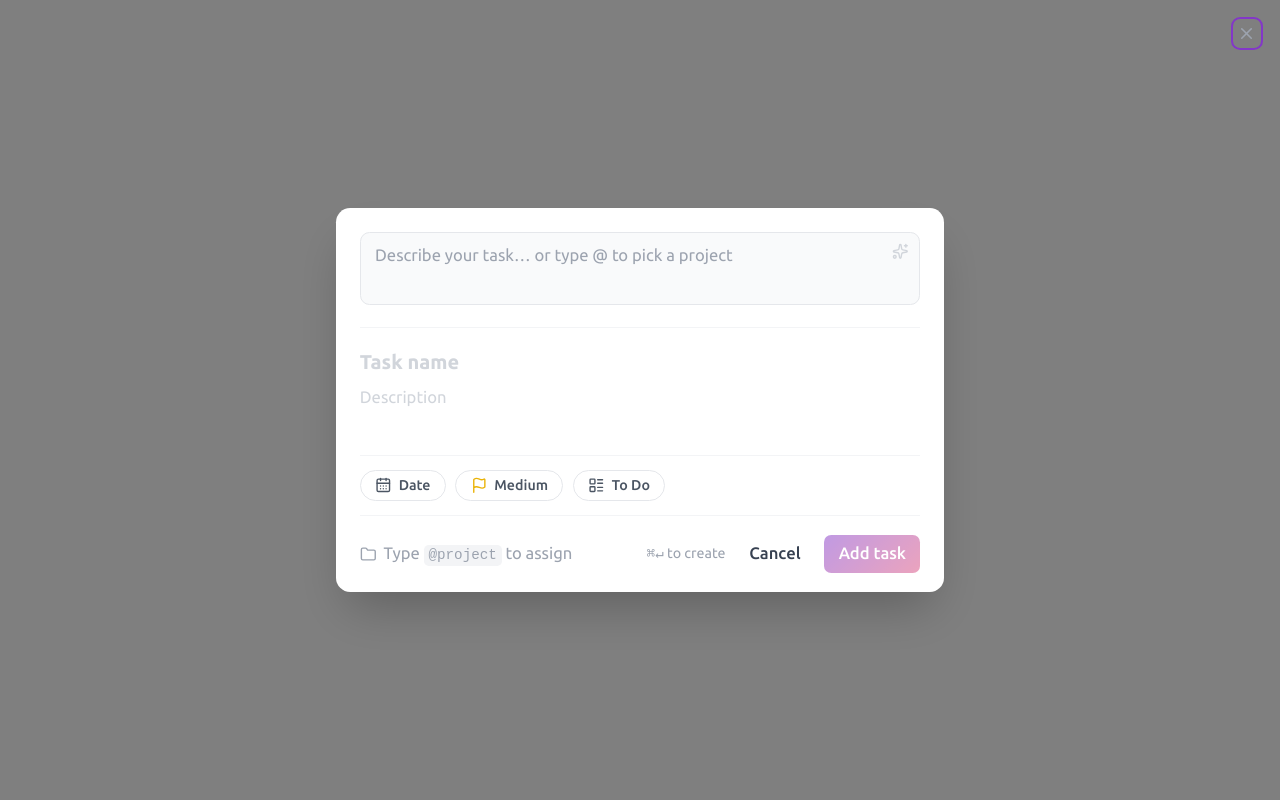
Test: CreateTaskModal — parse error fallback › falls back gracefully when parse endpoint throws
Type "Fix the broken thing" into the text box with placeholder "Describe your task… or type @ to pick a project" at (640, 268), box x1=360 y1=232 x2=920 y2=305
Wait 700 ms
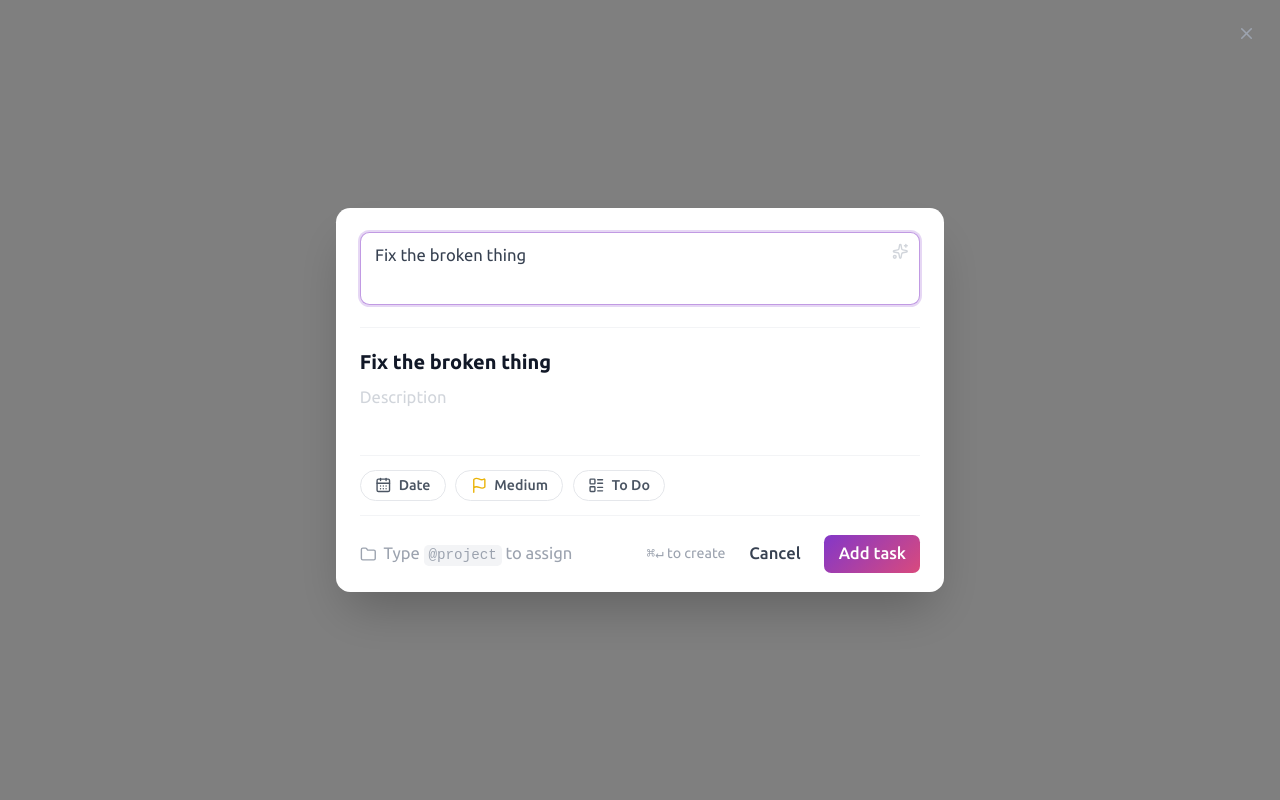
Check: the field named "title" holds "Fix the broken thing", box x1=360 y1=346 x2=920 y2=376
